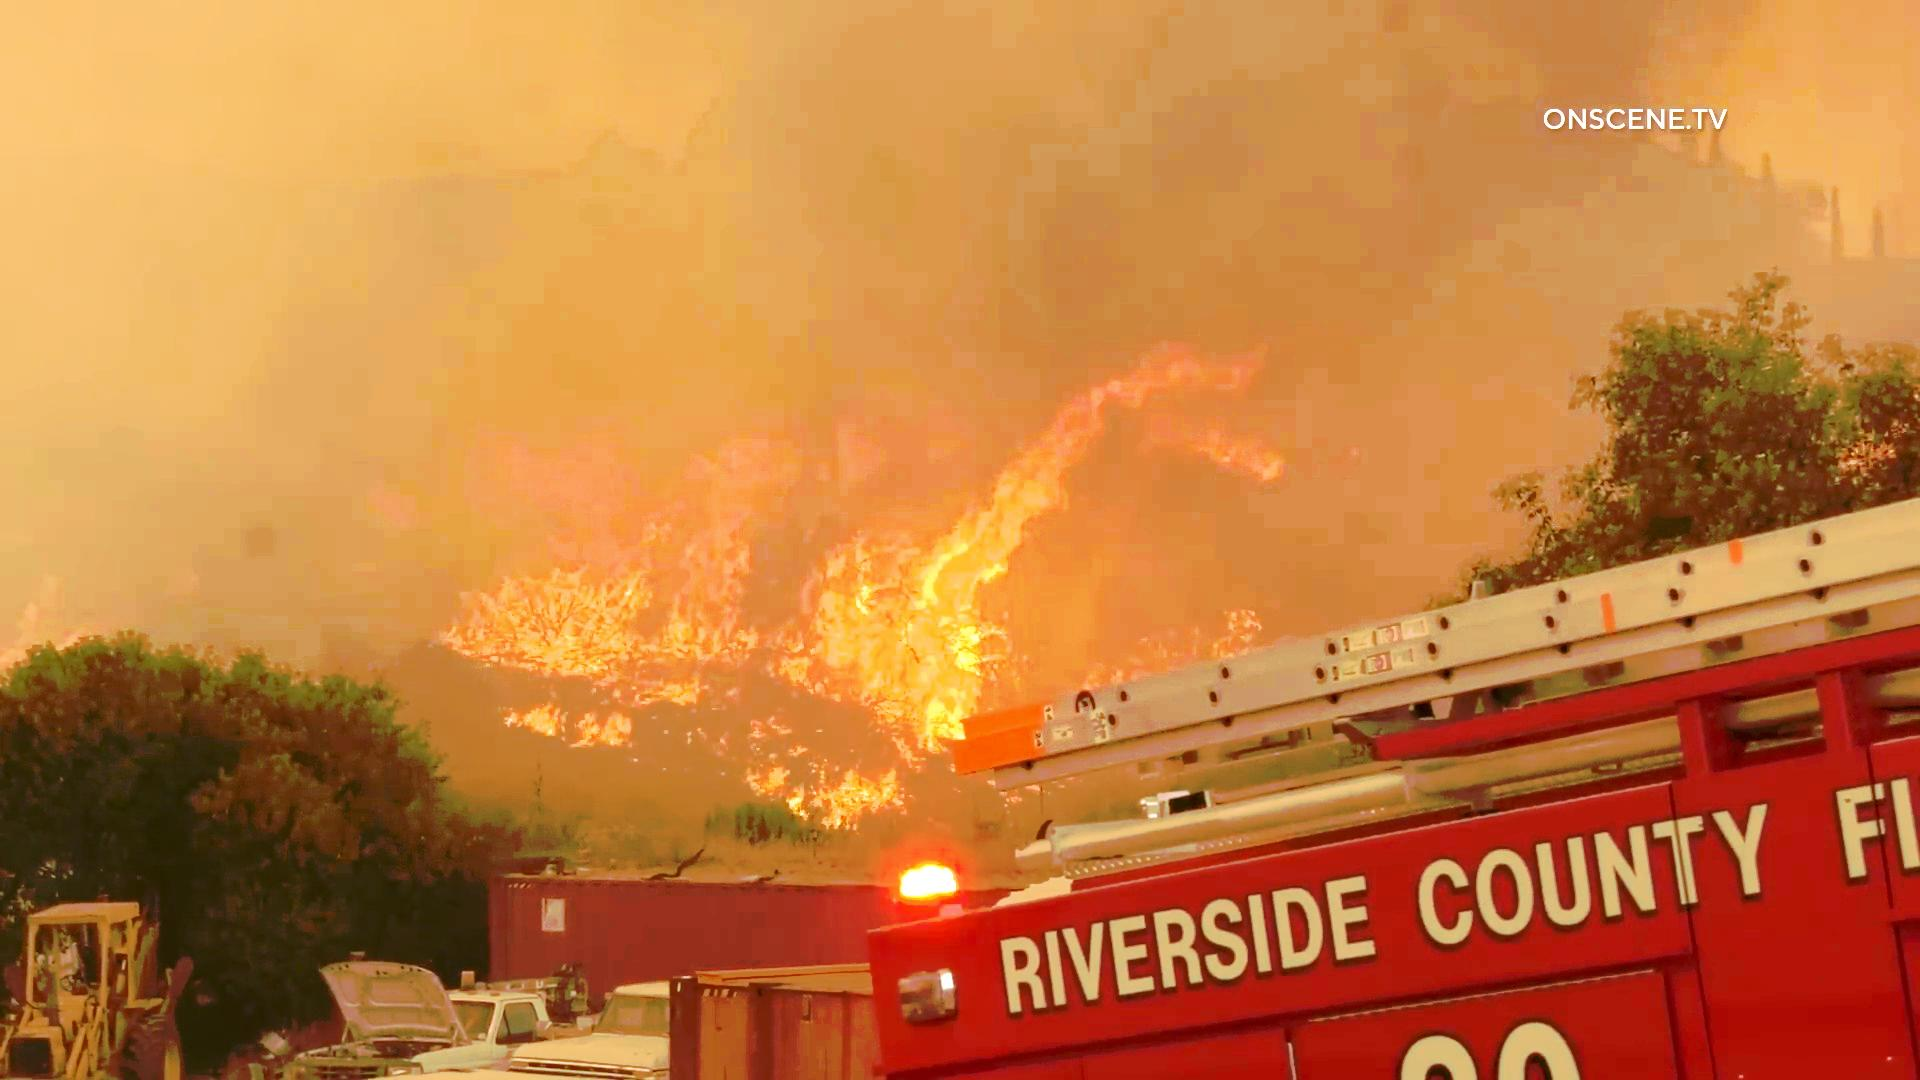fire: (717, 323, 1255, 753), (463, 309, 913, 823)
smoke: (426, 3, 1337, 351)
